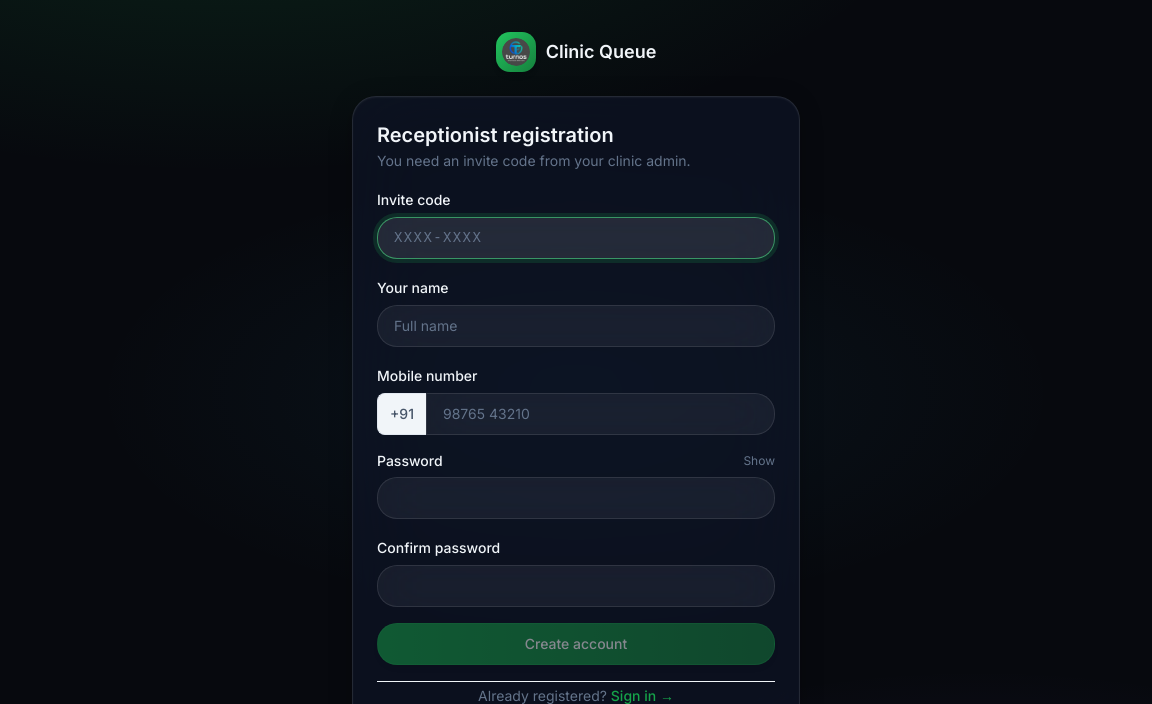
Scenario: <RegisterPage /> › keeps submit disabled until ALL fields are valid
This screenshot has width=1152, height=704.
Check: the button "Create account" is disabled, box [377,623,775,665]
// Fill everything except confirm — still disabled
Type "ABCD-EFGH" into the field labelled "Invite code" at (576, 238), box [377,217,775,259]
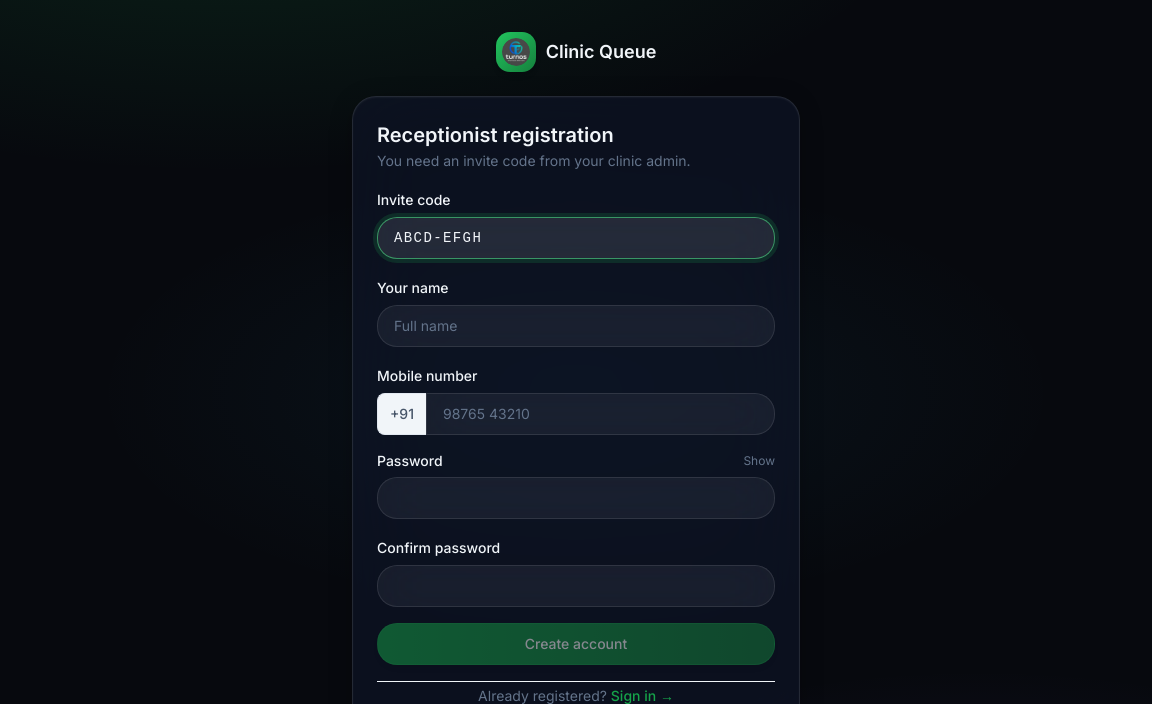
Type "Alice" into the field labelled "Your name" at (576, 326), box [377,305,775,347]
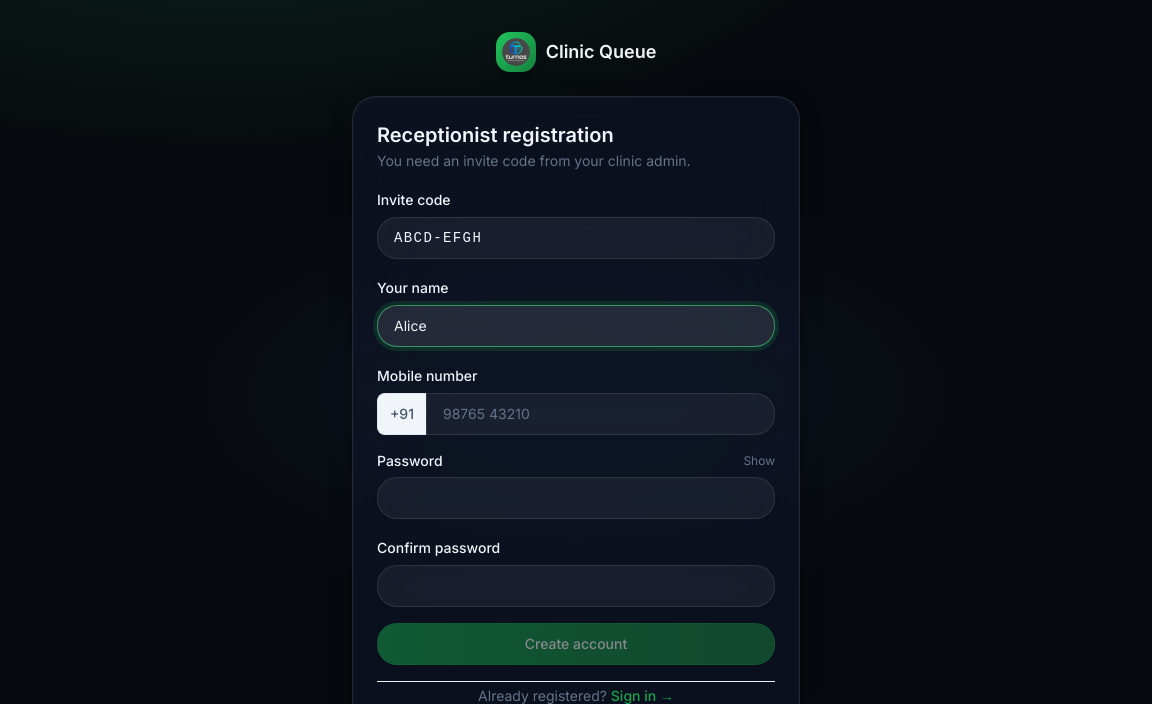
Type "9876543210" into the field labelled "Mobile number" at (600, 414), box [426,393,775,435]
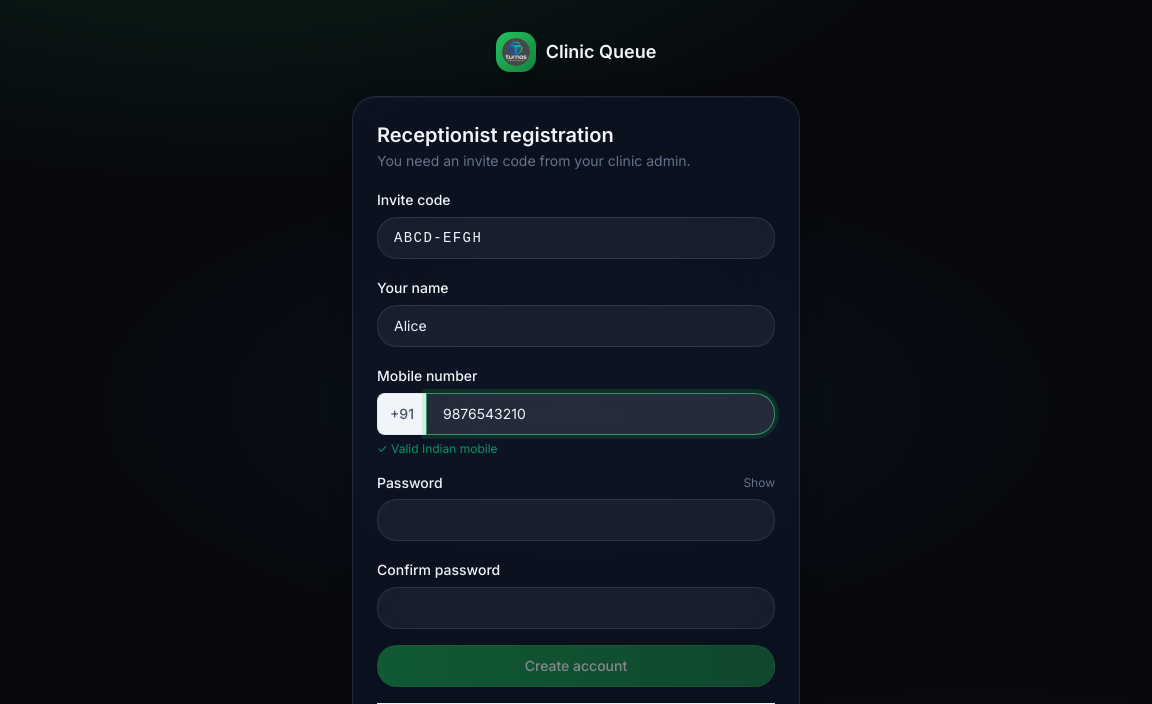
Type "goodpass1" into the password field labelled "Password" at (576, 520), box [377,499,775,541]
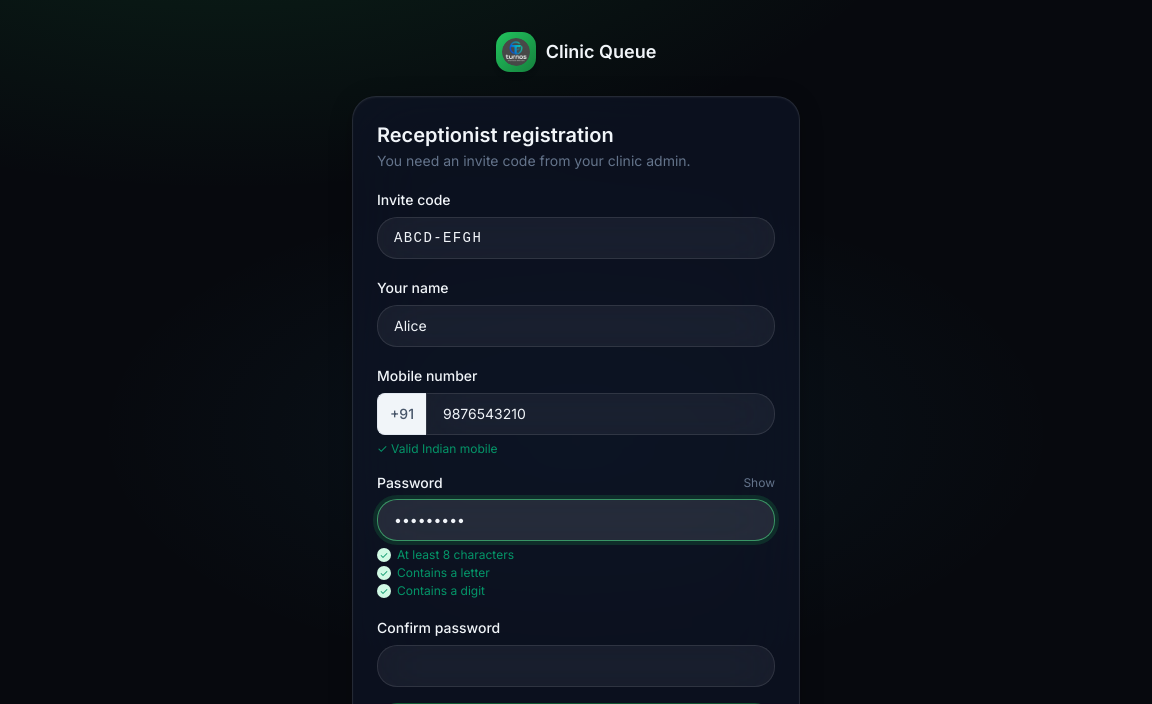
// Confirm matches → enabled
Type "goodpass1" into the password field labelled "Confirm password" at (576, 666), box [377,645,775,687]
(page scrolled)
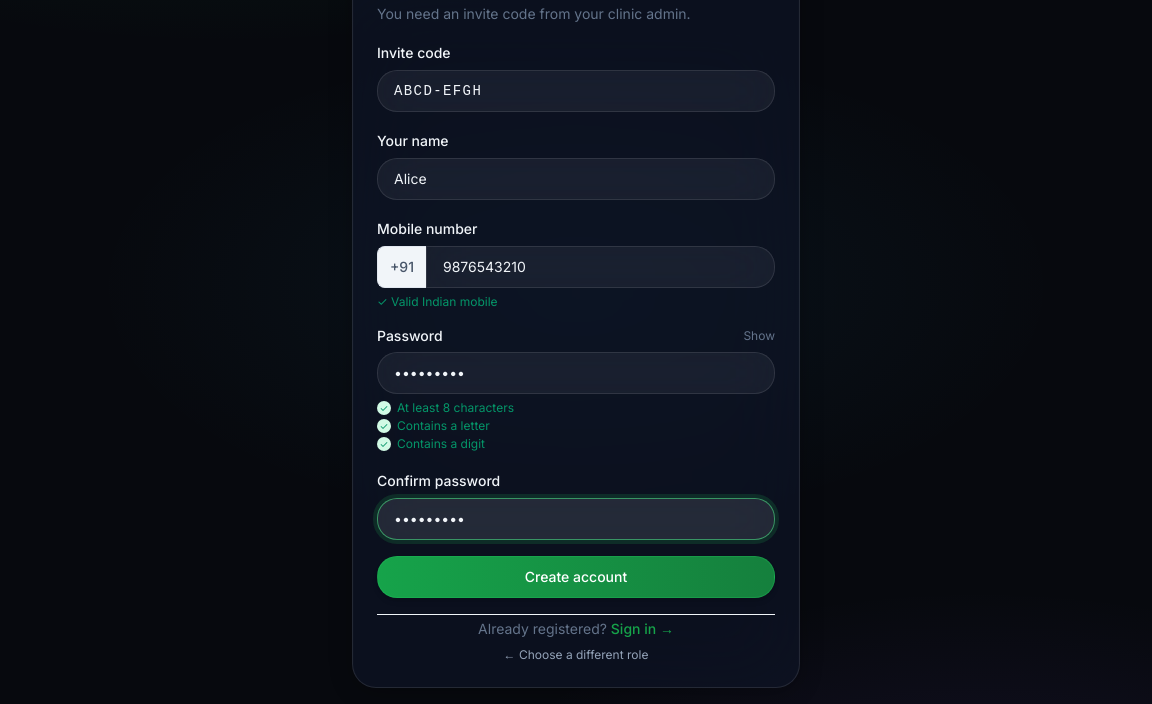
Check: the button "Create account" is enabled, box [377,556,775,598]
